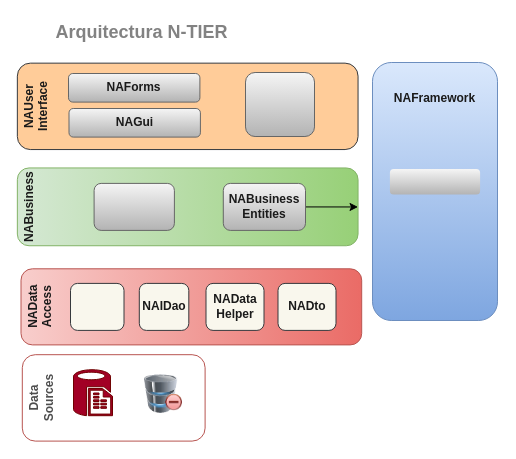
Some shapes in this 516 by 459 pixel diagram are drawn without their labels. Here are the shapes that lost their labels. From the top down, the centre of each, then its label:
At point (279, 104): "NAResource".
At point (434, 181): "NAException".
At point (133, 206): "NABusiness Logic".
At point (97, 306): "NADao".
At point (92, 392): "SQLITE".
At point (163, 393): "database".
